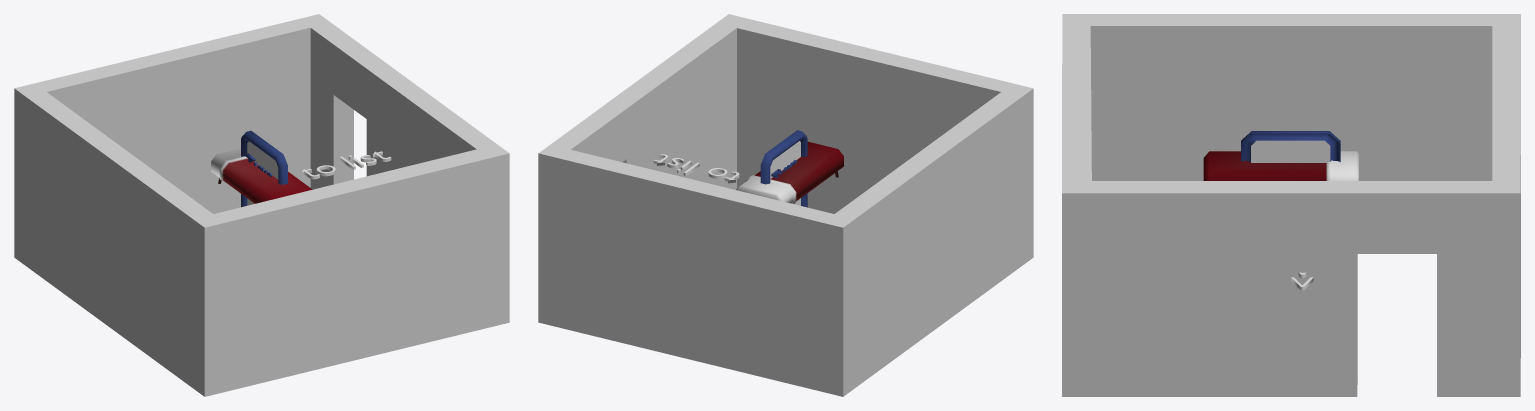
The model's file is LVL_01.fbx.
3 views of the same model, side by side, from view 1: azimuth 30°, elevation 25°; view 2: azimuth 150°, elevation 25°; view 3: azimuth 270°, elevation 25° (orthographic). The views are drawn at different scales.
Visible parts, largest first — view 1: SM_bedroom_walls, SM_bed, SM_wallScreen, Text.004; view 2: SM_bedroom_walls, SM_bed, SM_wallScreen, Text.004; view 3: SM_bedroom_walls, SM_bed, SM_wallScreen.
Part boxes in pixels (x1=…): SM_bedroom_walls: x1=14, y1=14, x2=509, y2=396; SM_bed: x1=211, y1=148, x2=312, y2=203; SM_wallScreen: x1=241, y1=130, x2=287, y2=207; Text.004: x1=301, y1=151, x2=391, y2=179; SM_bedroom_walls: x1=538, y1=14, x2=1033, y2=396; SM_bed: x1=736, y1=141, x2=843, y2=203; SM_wallScreen: x1=760, y1=130, x2=807, y2=207; Text.004: x1=653, y1=154, x2=739, y2=183; SM_bedroom_walls: x1=1062, y1=14, x2=1520, y2=396; SM_bed: x1=1203, y1=151, x2=1358, y2=180; SM_wallScreen: x1=1241, y1=131, x2=1340, y2=162.
Size of the model in its own units: 919 by 451 by 921.
